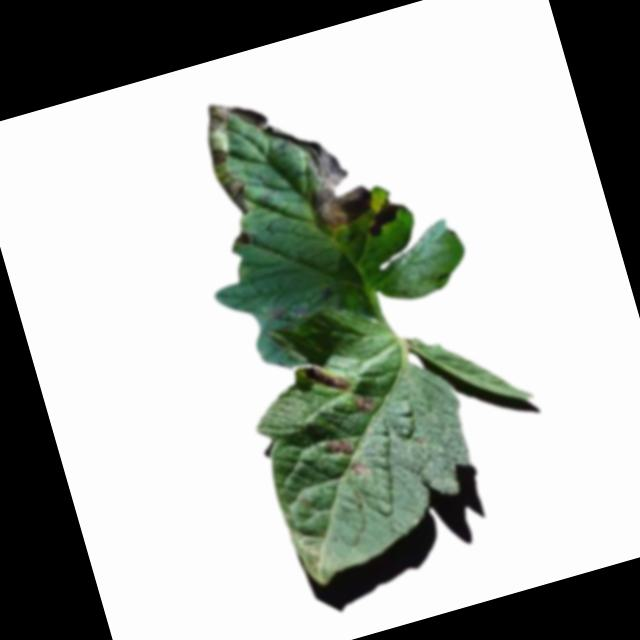Early_blight: (264, 104, 377, 241), (194, 88, 289, 219), (359, 193, 411, 241), (302, 355, 351, 400), (260, 296, 310, 331), (324, 434, 356, 460), (352, 390, 379, 417), (350, 459, 371, 478)
